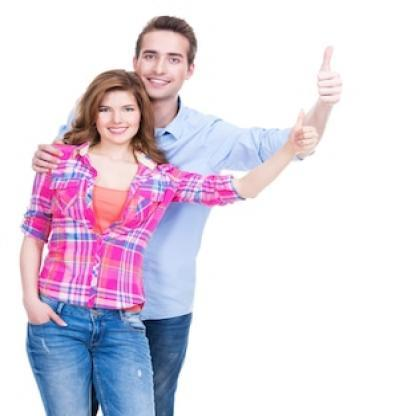thumb_up: (309, 42, 348, 106), (288, 104, 322, 158)
